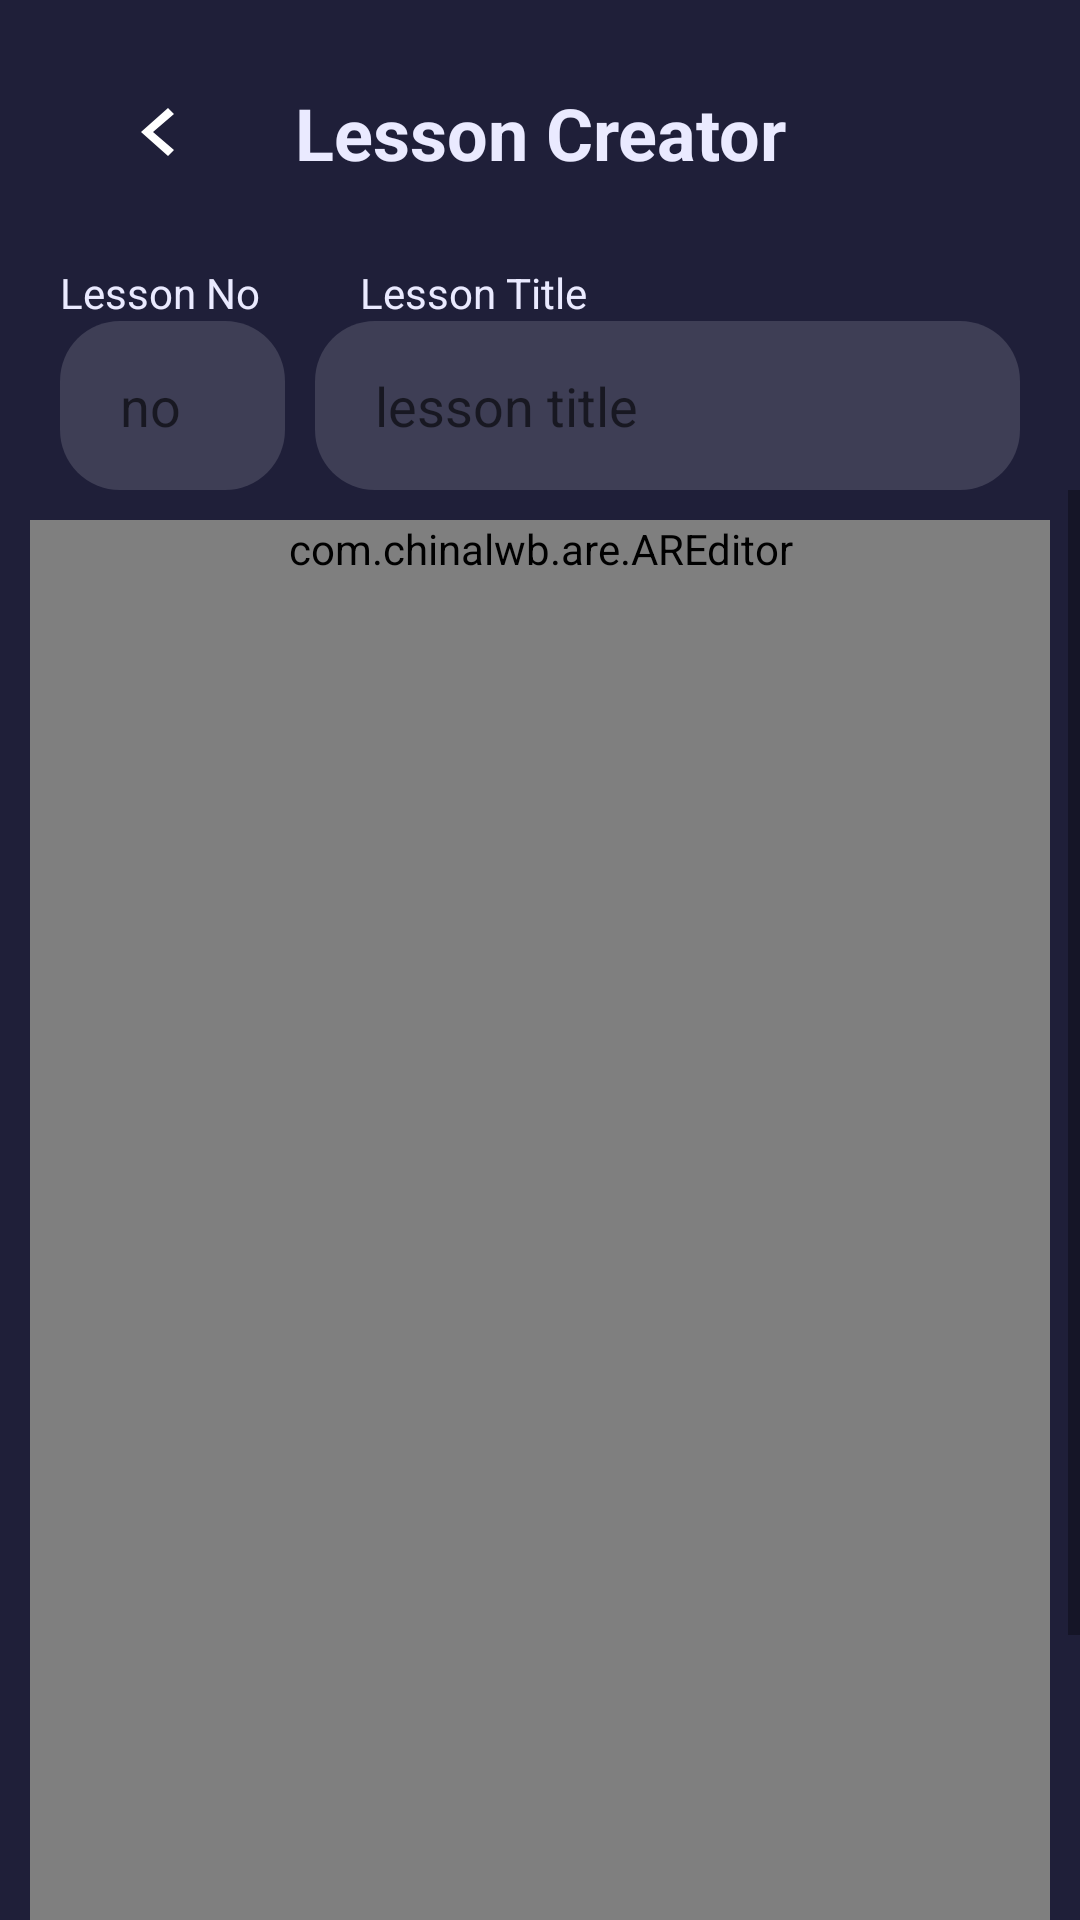

Named icons in this screenshot (1080×1920) and their bounding boxes, (x1, y1, x2, y2):
back: (141, 108, 174, 156)
